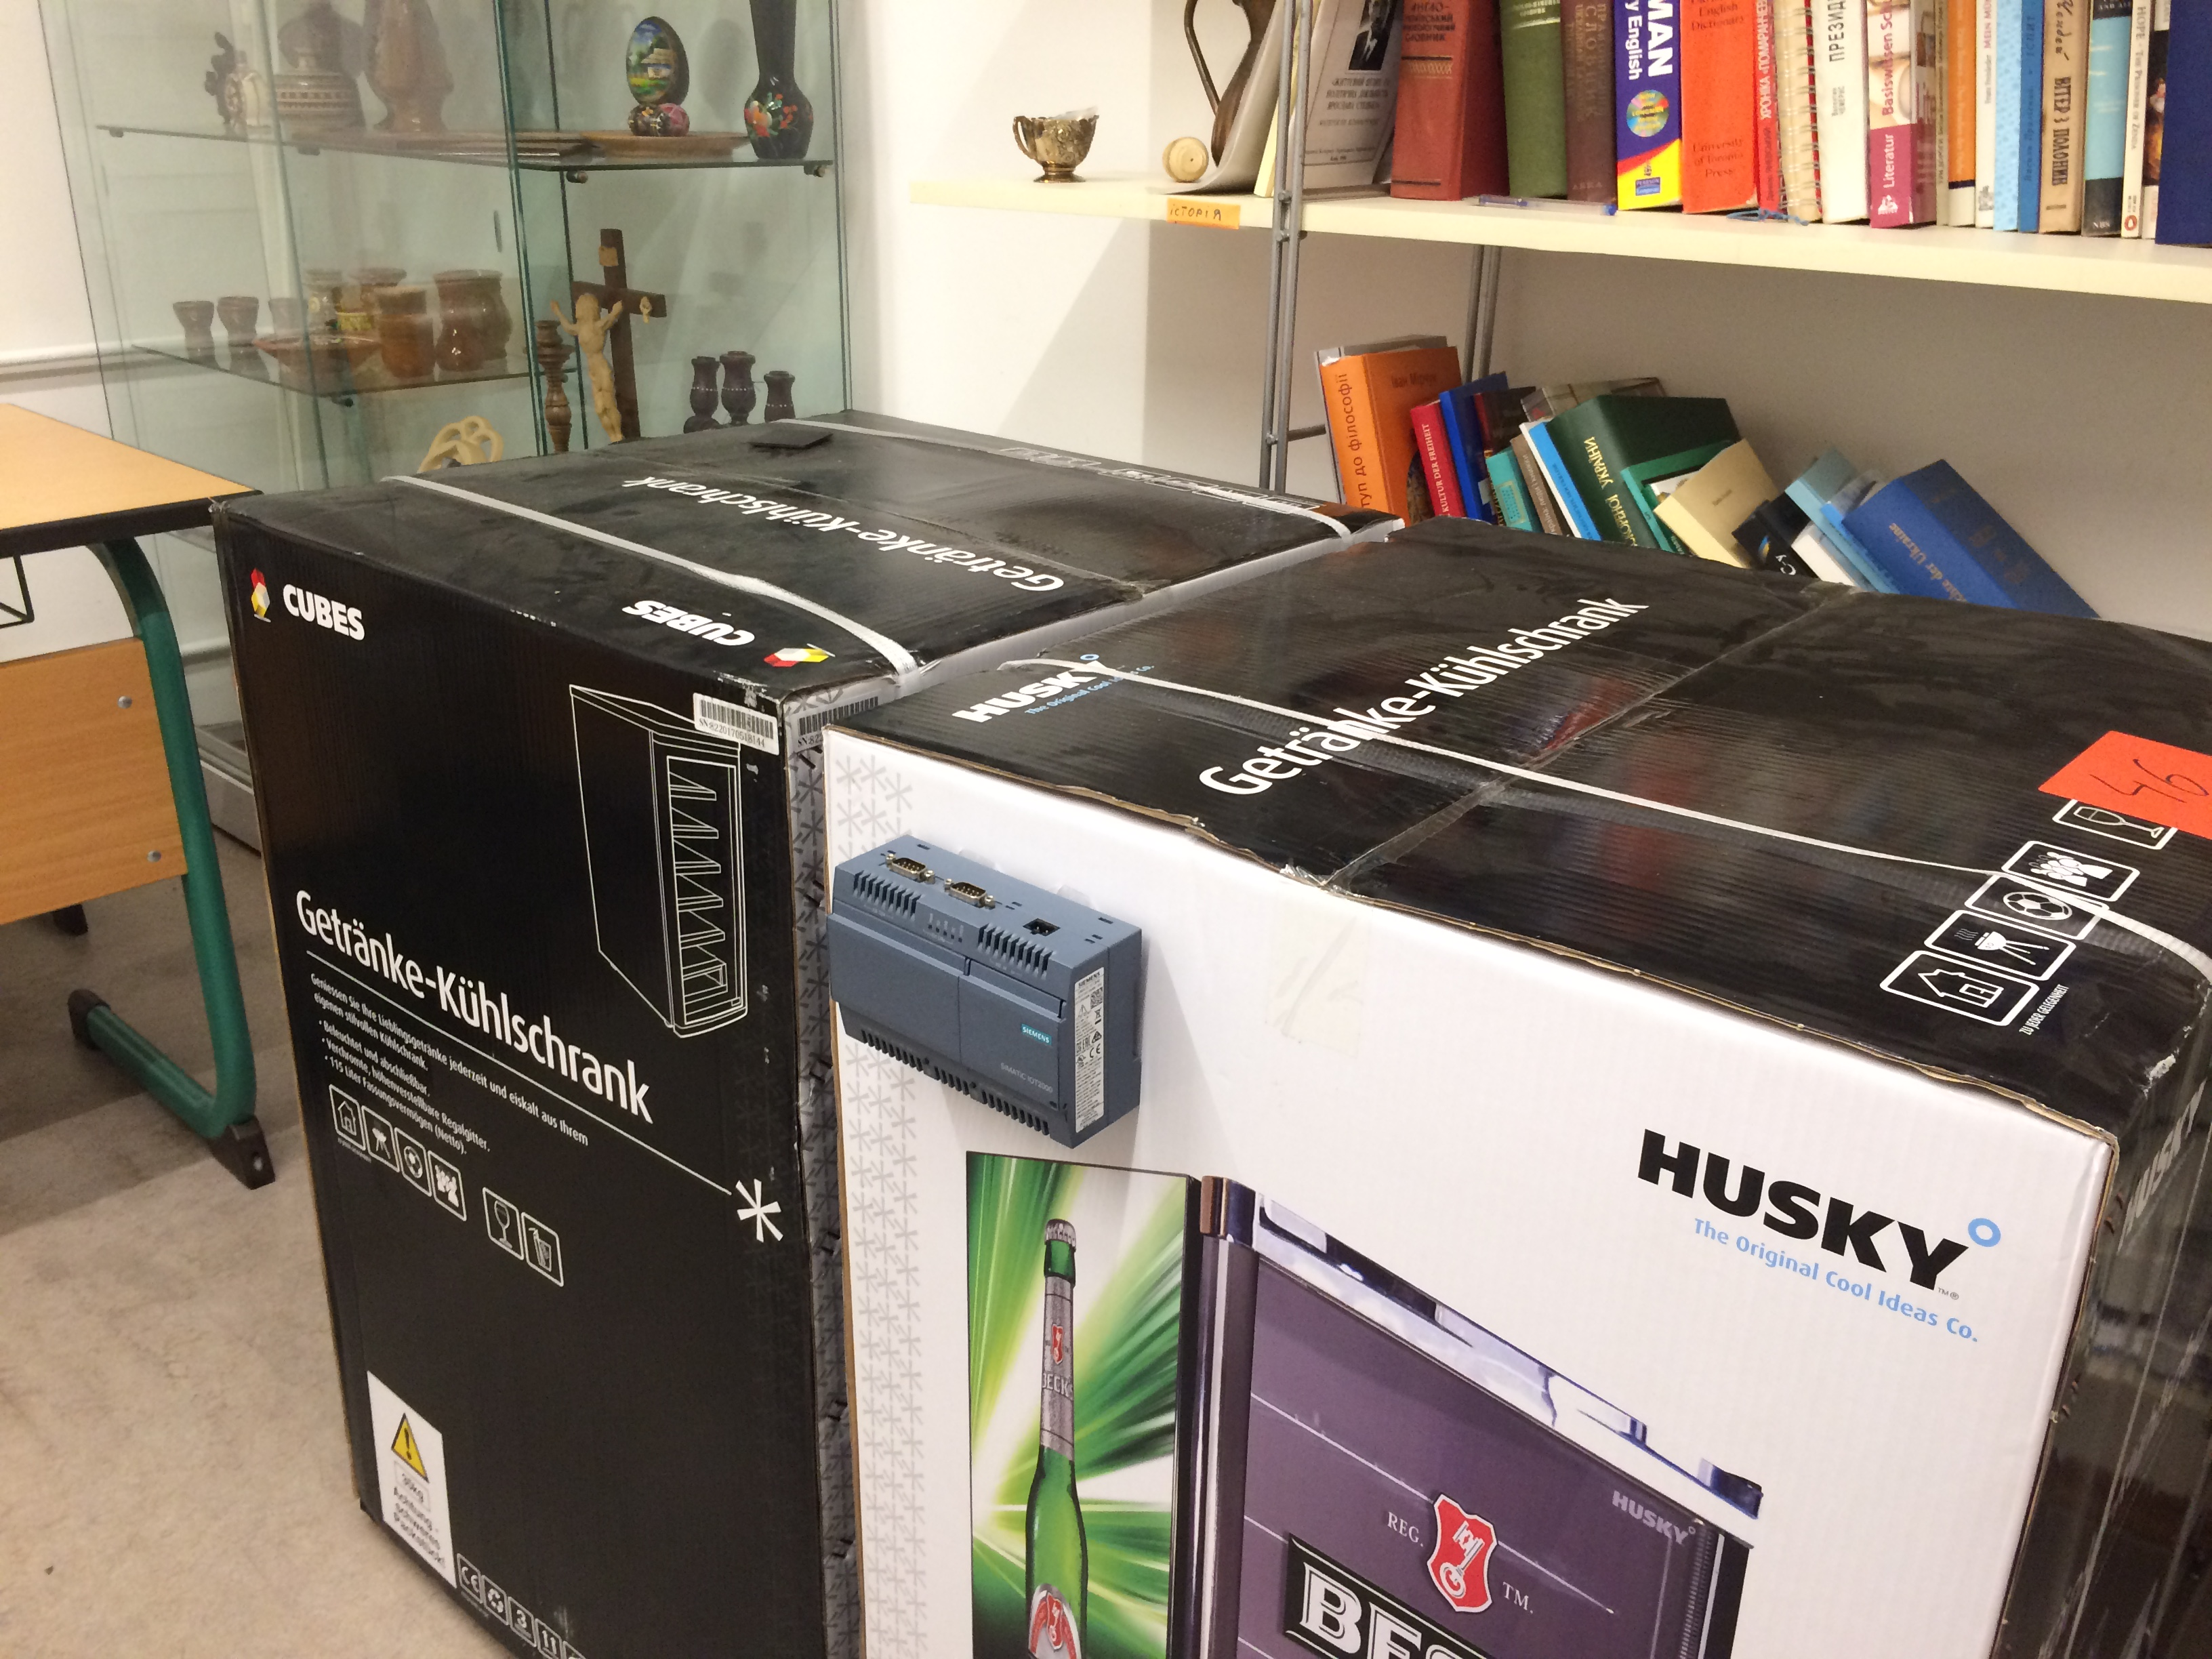iot2000: (822, 829, 1146, 1154)
